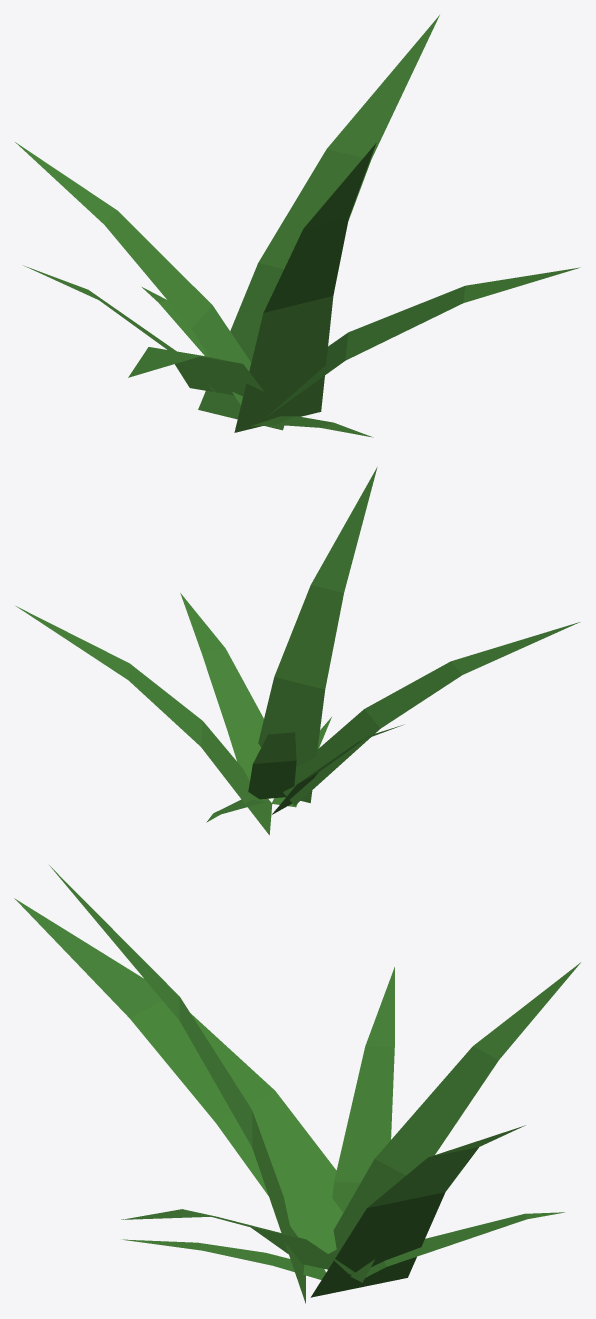
Rendered from SM_Plant_01.fbx.
The picture shows the model from 3 angles, top to bottom: view 1: azimuth 30°, elevation 25°; view 2: azimuth 150°, elevation 25°; view 3: azimuth 270°, elevation 25°; orthographic projection. The views are drawn at different scales.
Visible parts, largest first — view 1: Fern; view 2: Fern; view 3: Fern.
Part boxes in pixels (left/top/right/bottom): Fern: left=15, top=15, right=579, bottom=437; Fern: left=16, top=467, right=579, bottom=835; Fern: left=14, top=865, right=580, bottom=1303.
Bounding box in the file's own units: 106 × 71.51 × 87.27.
